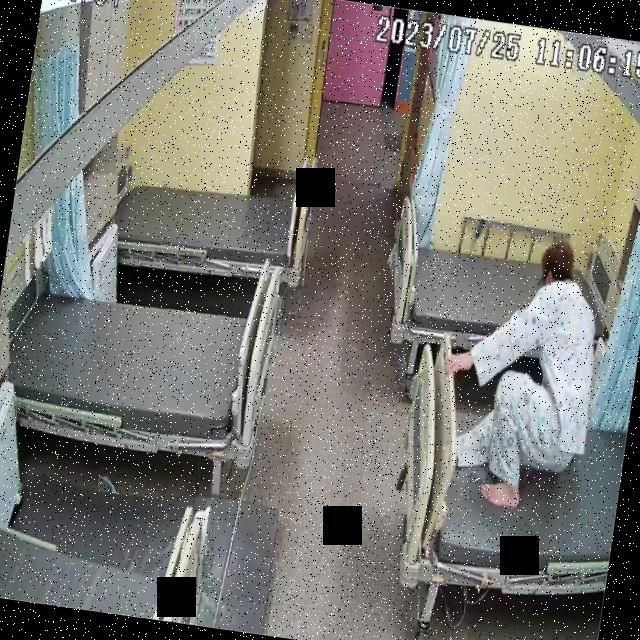bed: (384, 338, 636, 611), (0, 275, 278, 463), (380, 223, 628, 373), (111, 164, 312, 287)
danger: (419, 236, 608, 514)
patient: (425, 233, 606, 511)
